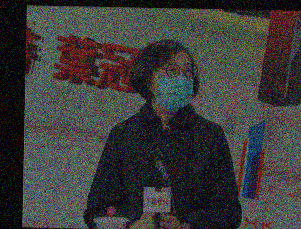with_mask: (150, 59, 196, 113)
